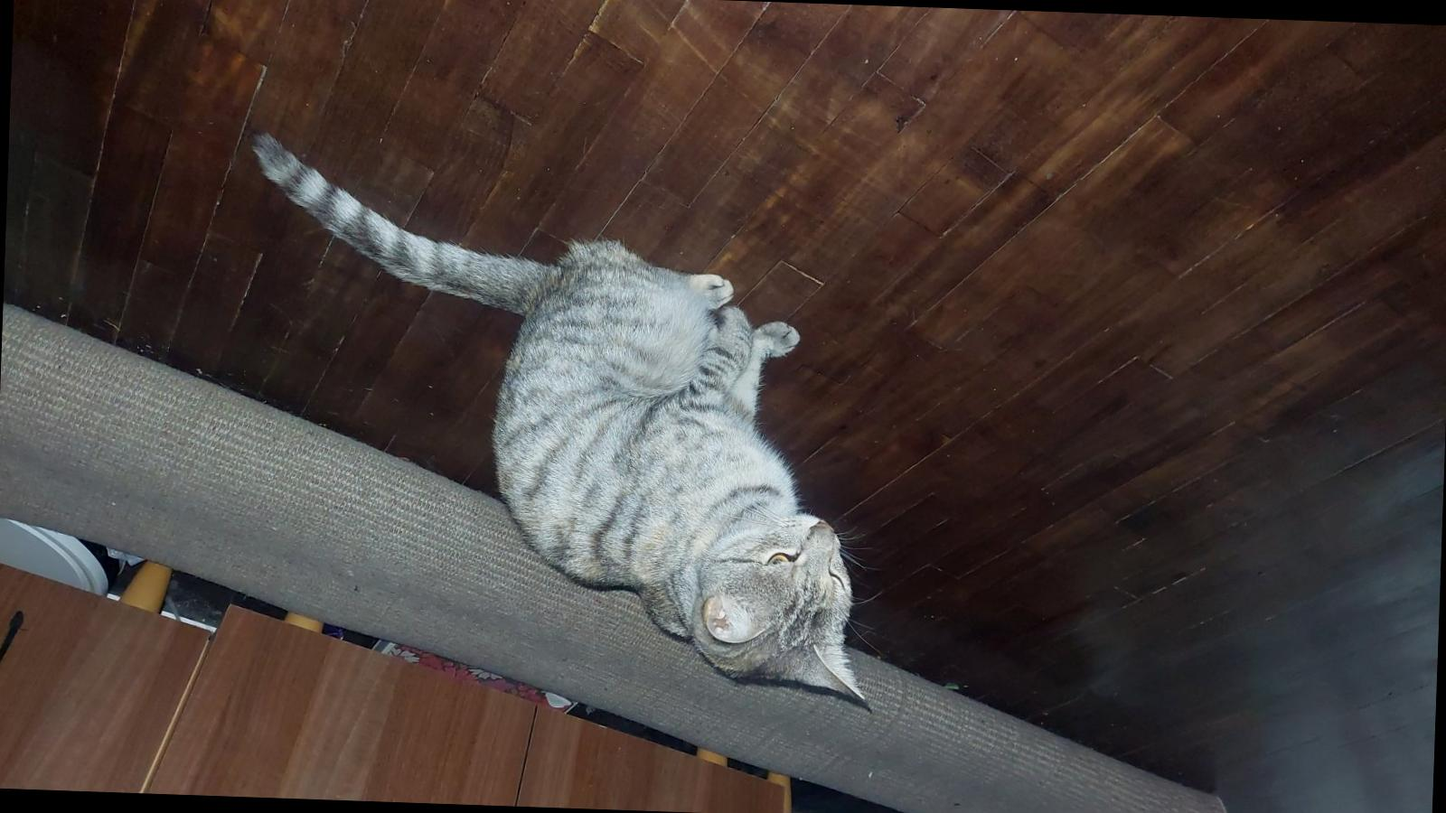macka: (232, 127, 893, 715)
